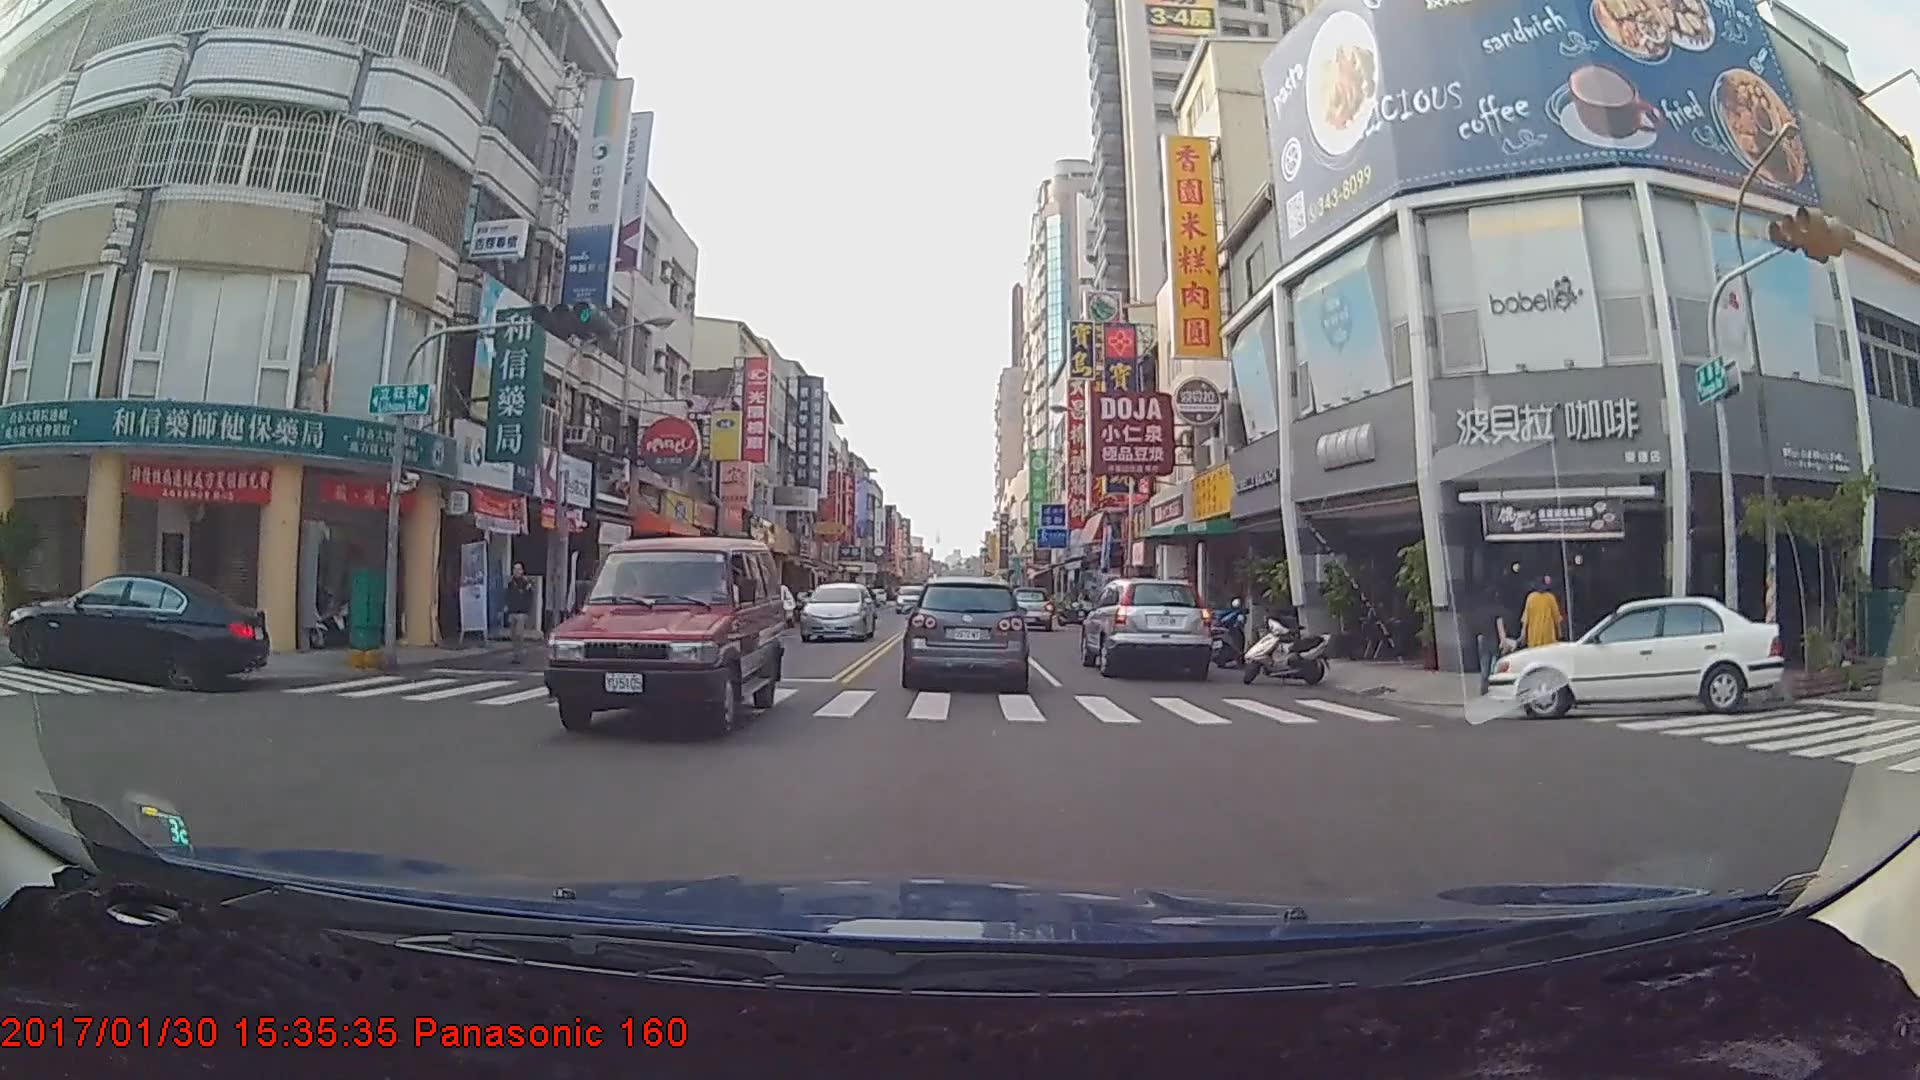pedestrian: (1520, 571, 1563, 674), (499, 563, 541, 665), (1476, 587, 1513, 696)
vehicle: (533, 535, 787, 741), (1486, 593, 1785, 718), (3, 569, 269, 691), (1079, 576, 1213, 681), (902, 579, 1025, 688), (799, 581, 877, 642), (1006, 587, 1052, 631), (894, 583, 929, 614)
